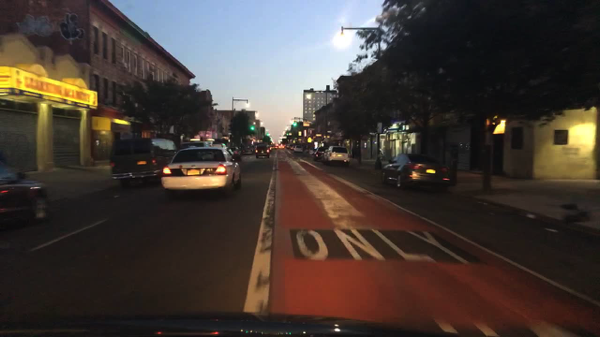car: (162, 147, 242, 196), (110, 137, 178, 186), (0, 157, 46, 228), (380, 154, 450, 191), (321, 146, 350, 167), (179, 141, 212, 149), (255, 143, 271, 159), (313, 146, 329, 161), (228, 147, 242, 156), (242, 147, 254, 154), (294, 145, 303, 154), (213, 143, 228, 148), (278, 144, 285, 150), (267, 146, 272, 153), (271, 145, 277, 150), (289, 145, 294, 151), (271, 146, 277, 150), (286, 145, 289, 149), (284, 144, 286, 148)
traffic light: (251, 125, 255, 130), (293, 123, 297, 127), (286, 133, 289, 136), (266, 133, 268, 136), (228, 140, 230, 142)
traffic sign: (308, 137, 311, 142), (315, 134, 322, 136), (228, 131, 231, 135), (327, 131, 331, 133), (293, 141, 295, 143)
